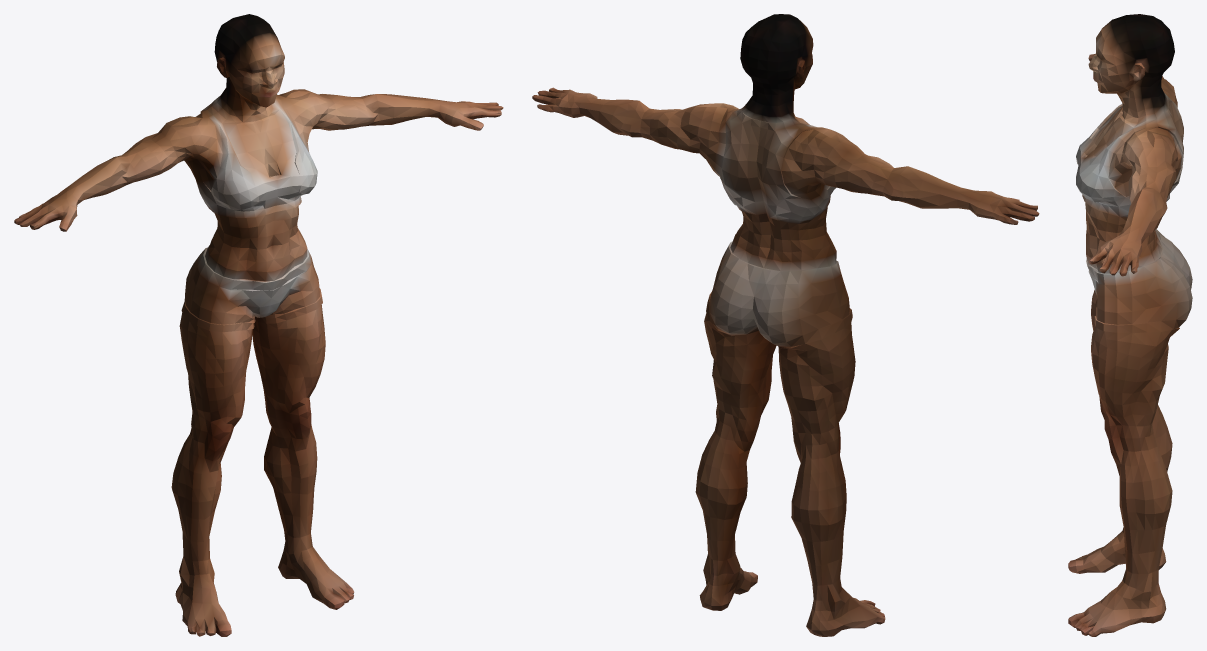
File: female_human.obj
3 renders of one model, left to right at view 1: azimuth 30°, elevation 25°; view 2: azimuth 150°, elevation 25°; view 3: azimuth 270°, elevation 25°, orthographic. The views are drawn at different scales.
Visible parts, largest first — view 1: tripo_node_b4a7c43a-b37f-46b4-8d53-8a06322f1e13; view 2: tripo_node_b4a7c43a-b37f-46b4-8d53-8a06322f1e13; view 3: tripo_node_b4a7c43a-b37f-46b4-8d53-8a06322f1e13.
Boxes of the visible parts, x1,y1,x2,y2 form: tripo_node_b4a7c43a-b37f-46b4-8d53-8a06322f1e13: [14, 14, 503, 636]; tripo_node_b4a7c43a-b37f-46b4-8d53-8a06322f1e13: [532, 14, 1039, 636]; tripo_node_b4a7c43a-b37f-46b4-8d53-8a06322f1e13: [1068, 14, 1192, 636].
Size of the model in its own units: 0.8495 by 0.9755 by 0.189.
